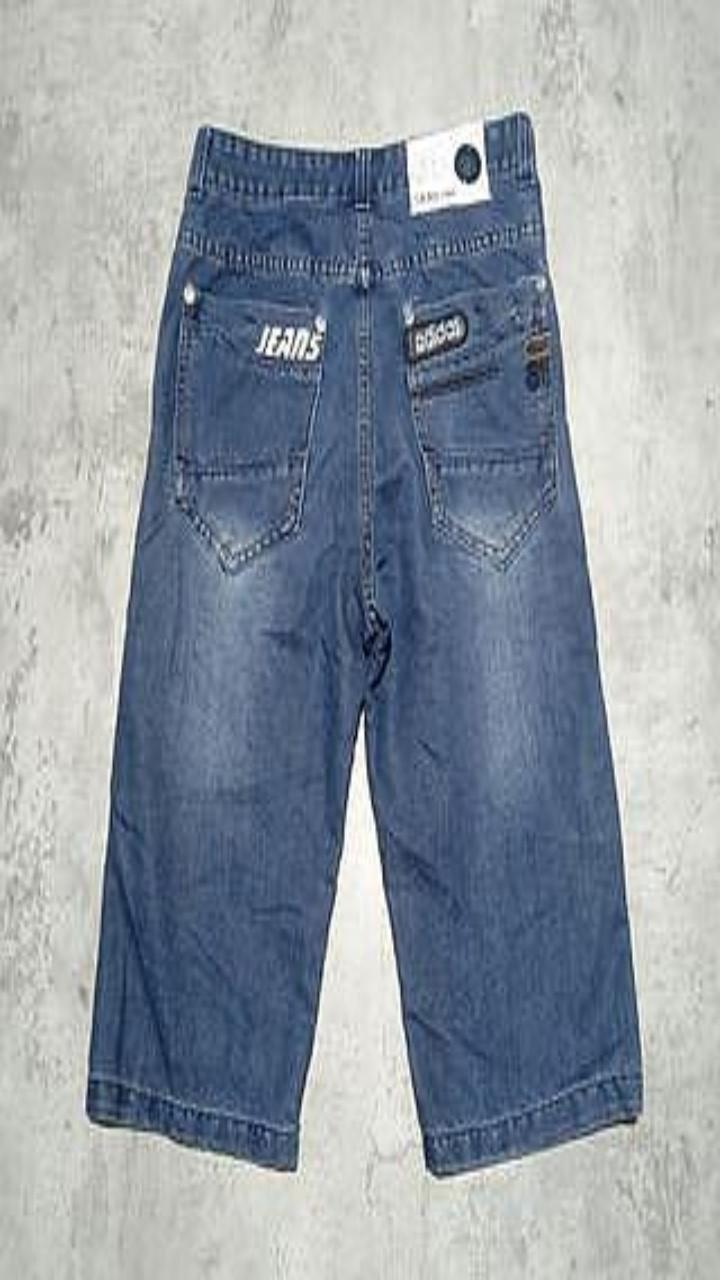Shorts: (86, 112, 642, 1174)
